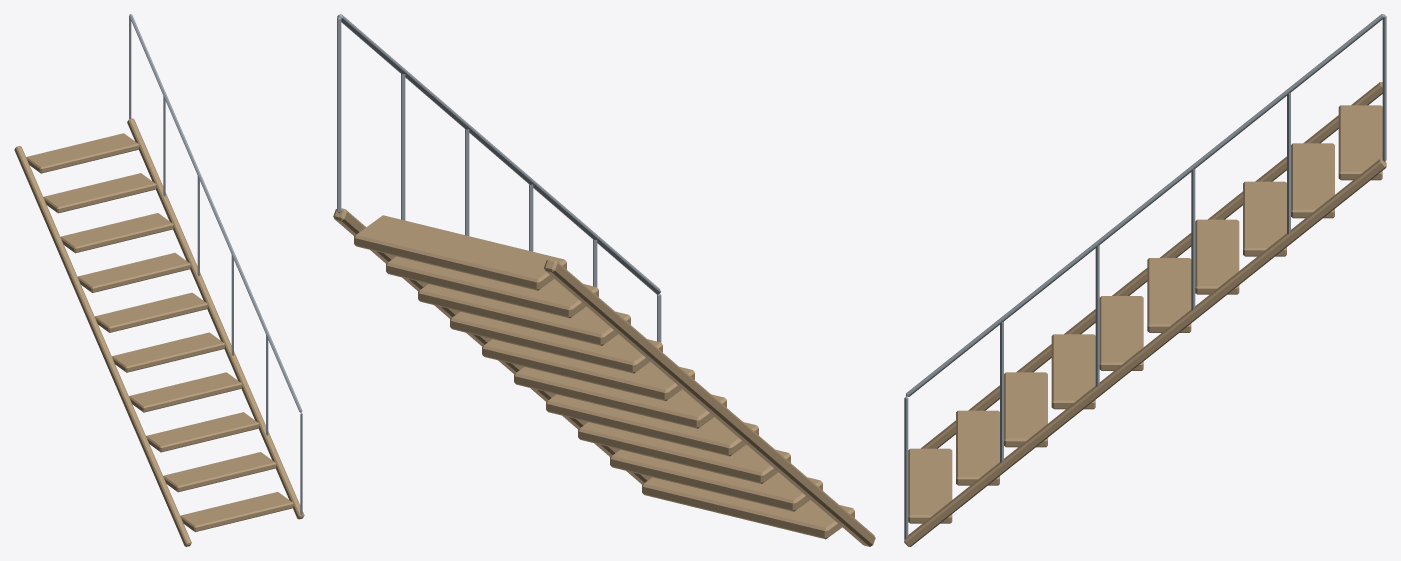
The model's file is exterior_stairs.glb.
3 views of the same model, side by side, from view 1: azimuth 30°, elevation 25°; view 2: azimuth 150°, elevation 25°; view 3: azimuth 270°, elevation 25° (orthographic). The views are drawn at different scales.
Parts seen in each view (by area): view 1: exterior_stairs; view 2: exterior_stairs; view 3: exterior_stairs.
Boxes of the visible parts, x1,y1,x2,y2 form: exterior_stairs: [14, 14, 304, 546]; exterior_stairs: [333, 14, 875, 546]; exterior_stairs: [904, 14, 1386, 546].
Bounding box in the file's own units: 1 × 3.06 × 2.52.
